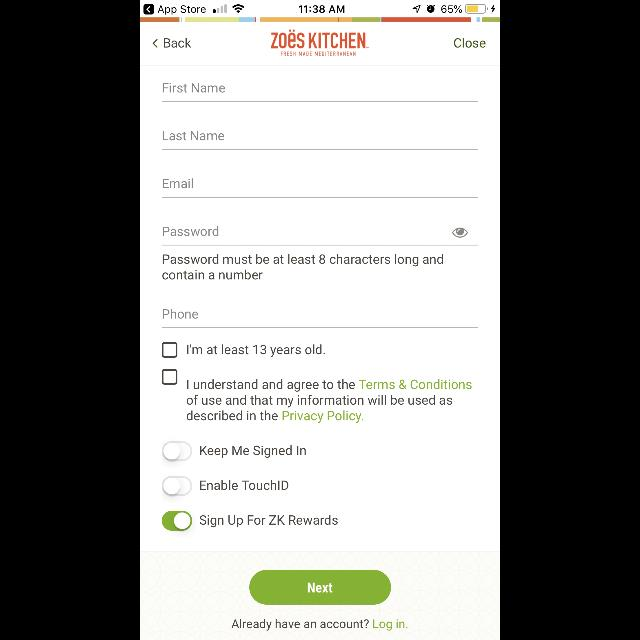checkbox: (162, 342, 176, 358), (162, 370, 178, 384)
icon: (452, 228, 468, 238), (152, 38, 158, 48)
image: (271, 30, 369, 56)
input: (162, 178, 478, 198), (162, 226, 478, 246), (162, 84, 478, 102), (162, 132, 478, 150), (162, 310, 478, 328)
switch: (162, 441, 192, 461), (162, 476, 192, 496), (162, 511, 192, 531)
text: (188, 379, 472, 423), (162, 254, 444, 280), (232, 619, 408, 631), (200, 514, 338, 528), (188, 344, 324, 358), (200, 446, 306, 458), (200, 480, 288, 490), (164, 226, 218, 236), (163, 84, 225, 92), (162, 132, 224, 140), (454, 38, 486, 48), (163, 178, 193, 188), (164, 38, 192, 48)
textbutton: (249, 570, 391, 604)
uppertaskbar: (140, 0, 500, 14)
